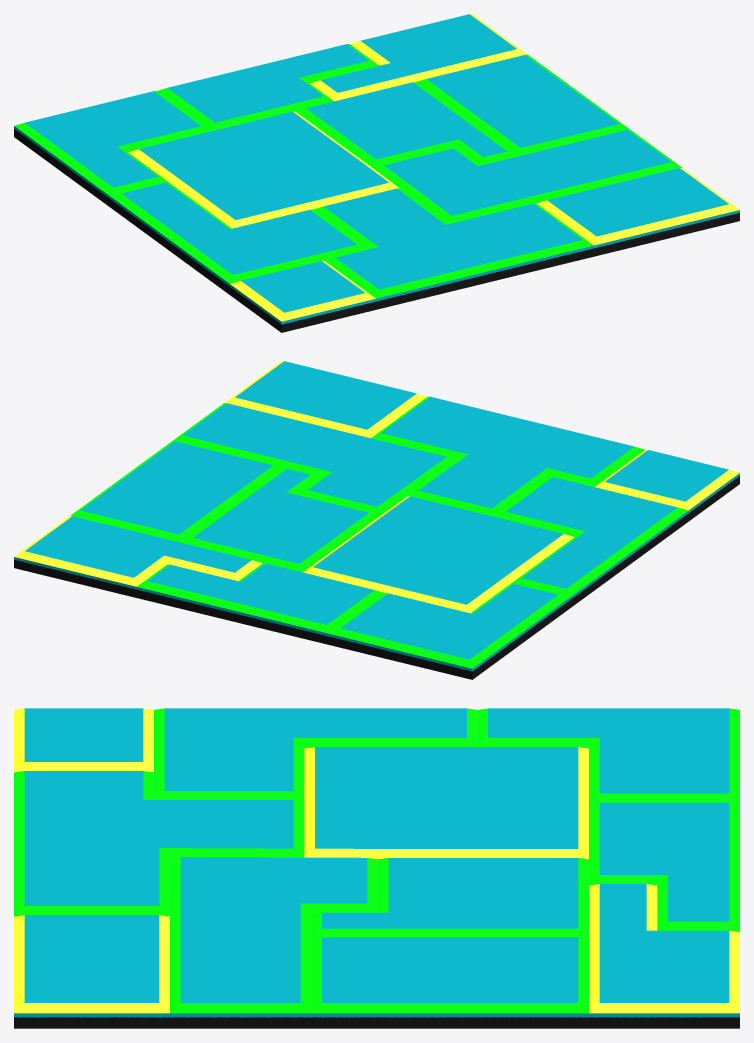
The model's file is floor_tier16.fbx.
3 views of the same model, one above another, from view 1: azimuth 30°, elevation 25°; view 2: azimuth 150°, elevation 25°; view 3: azimuth 270°, elevation 25° (orthographic). The views are drawn at different scales.
Visible parts, largest first — view 1: Cube.002, Cube.001; view 2: Cube.002, Cube.001; view 3: Cube.002, Cube.001.
Boxes of the visible parts, x1,y1,x2,y2 form: Cube.002: (14, 14, 739, 324); Cube.001: (14, 129, 739, 332); Cube.002: (14, 361, 739, 671); Cube.001: (14, 476, 739, 679); Cube.002: (14, 708, 739, 1017); Cube.001: (14, 1017, 739, 1028).
Bounding box in the file's own units: 654 × 21.35 × 662.
